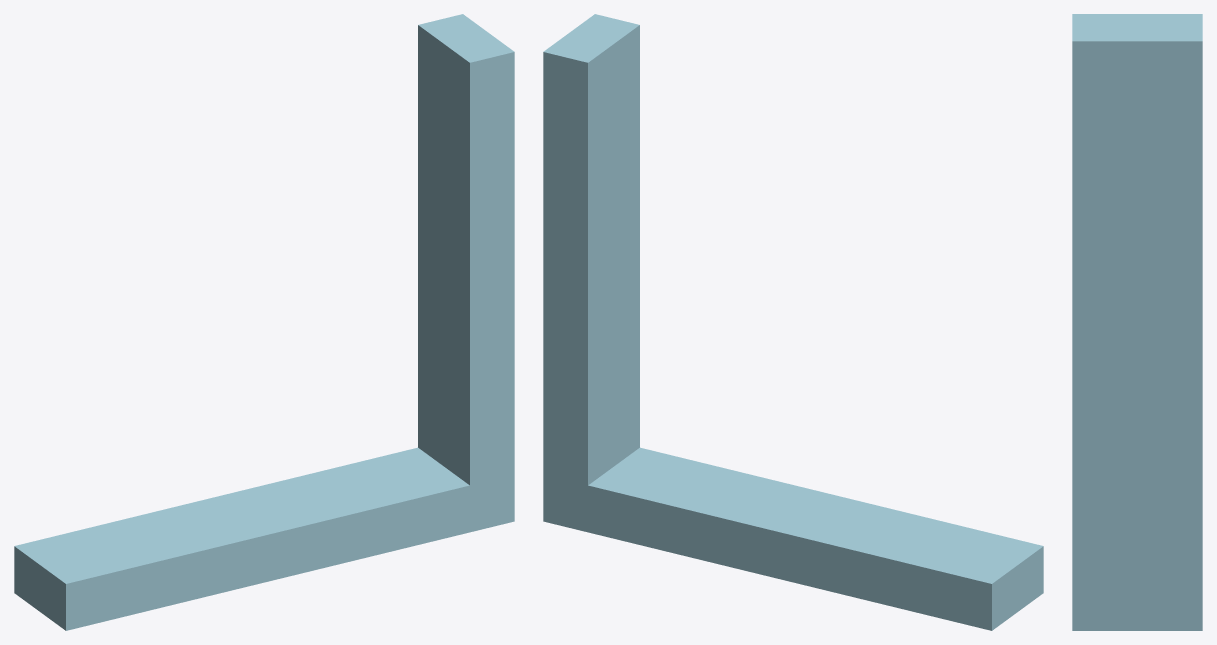
The model's file is hook.obj.
3 renders of one model, left to right at view 1: azimuth 30°, elevation 25°; view 2: azimuth 150°, elevation 25°; view 3: azimuth 270°, elevation 25°, orthographic. The views are drawn at different scales.
Parts seen in each view (by area): view 1: grp1; view 2: grp1; view 3: grp1.
Boxes of the visible parts, x1=… form: grp1: x1=14, y1=14, x2=514, y2=630; grp1: x1=543, y1=14, x2=1043, y2=630; grp1: x1=1072, y1=14, x2=1202, y2=630.
Size of the model in its own units: 0.2 by 0.2 by 0.04.
